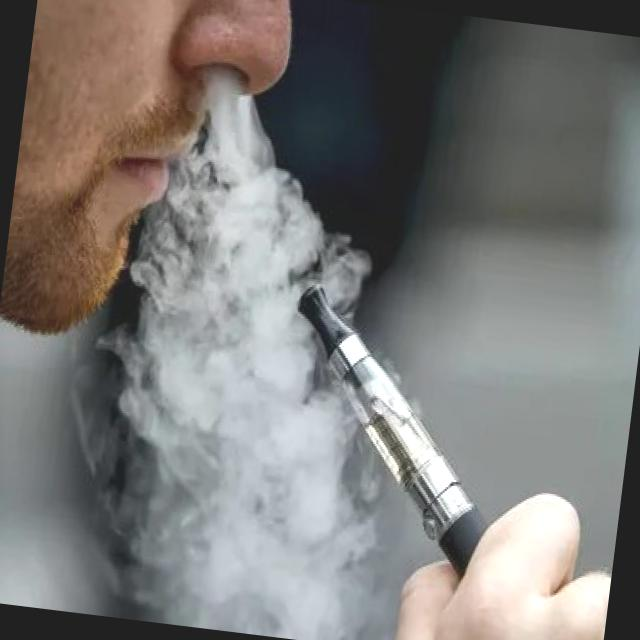smoke: (266, 277, 519, 578)
